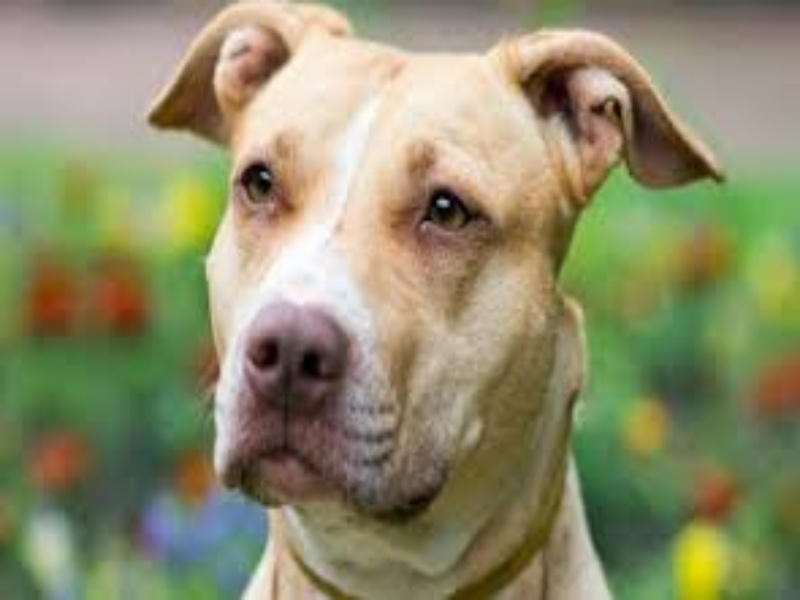dog: (142, 7, 739, 600)
